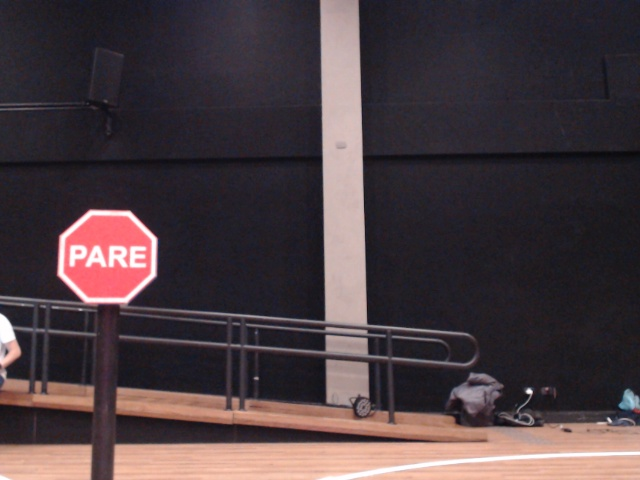SEMAFORO: (8, 182, 217, 374)
